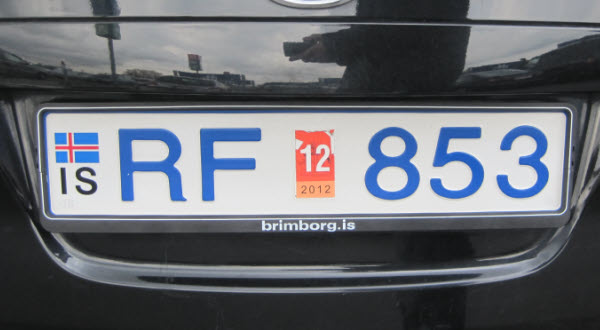license_plate: (37, 107, 571, 216)
